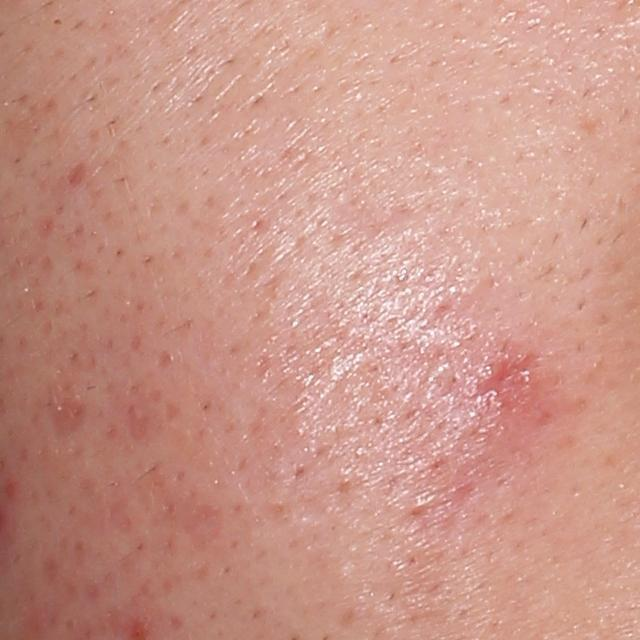atrophic_scar: (66, 160, 90, 190)
